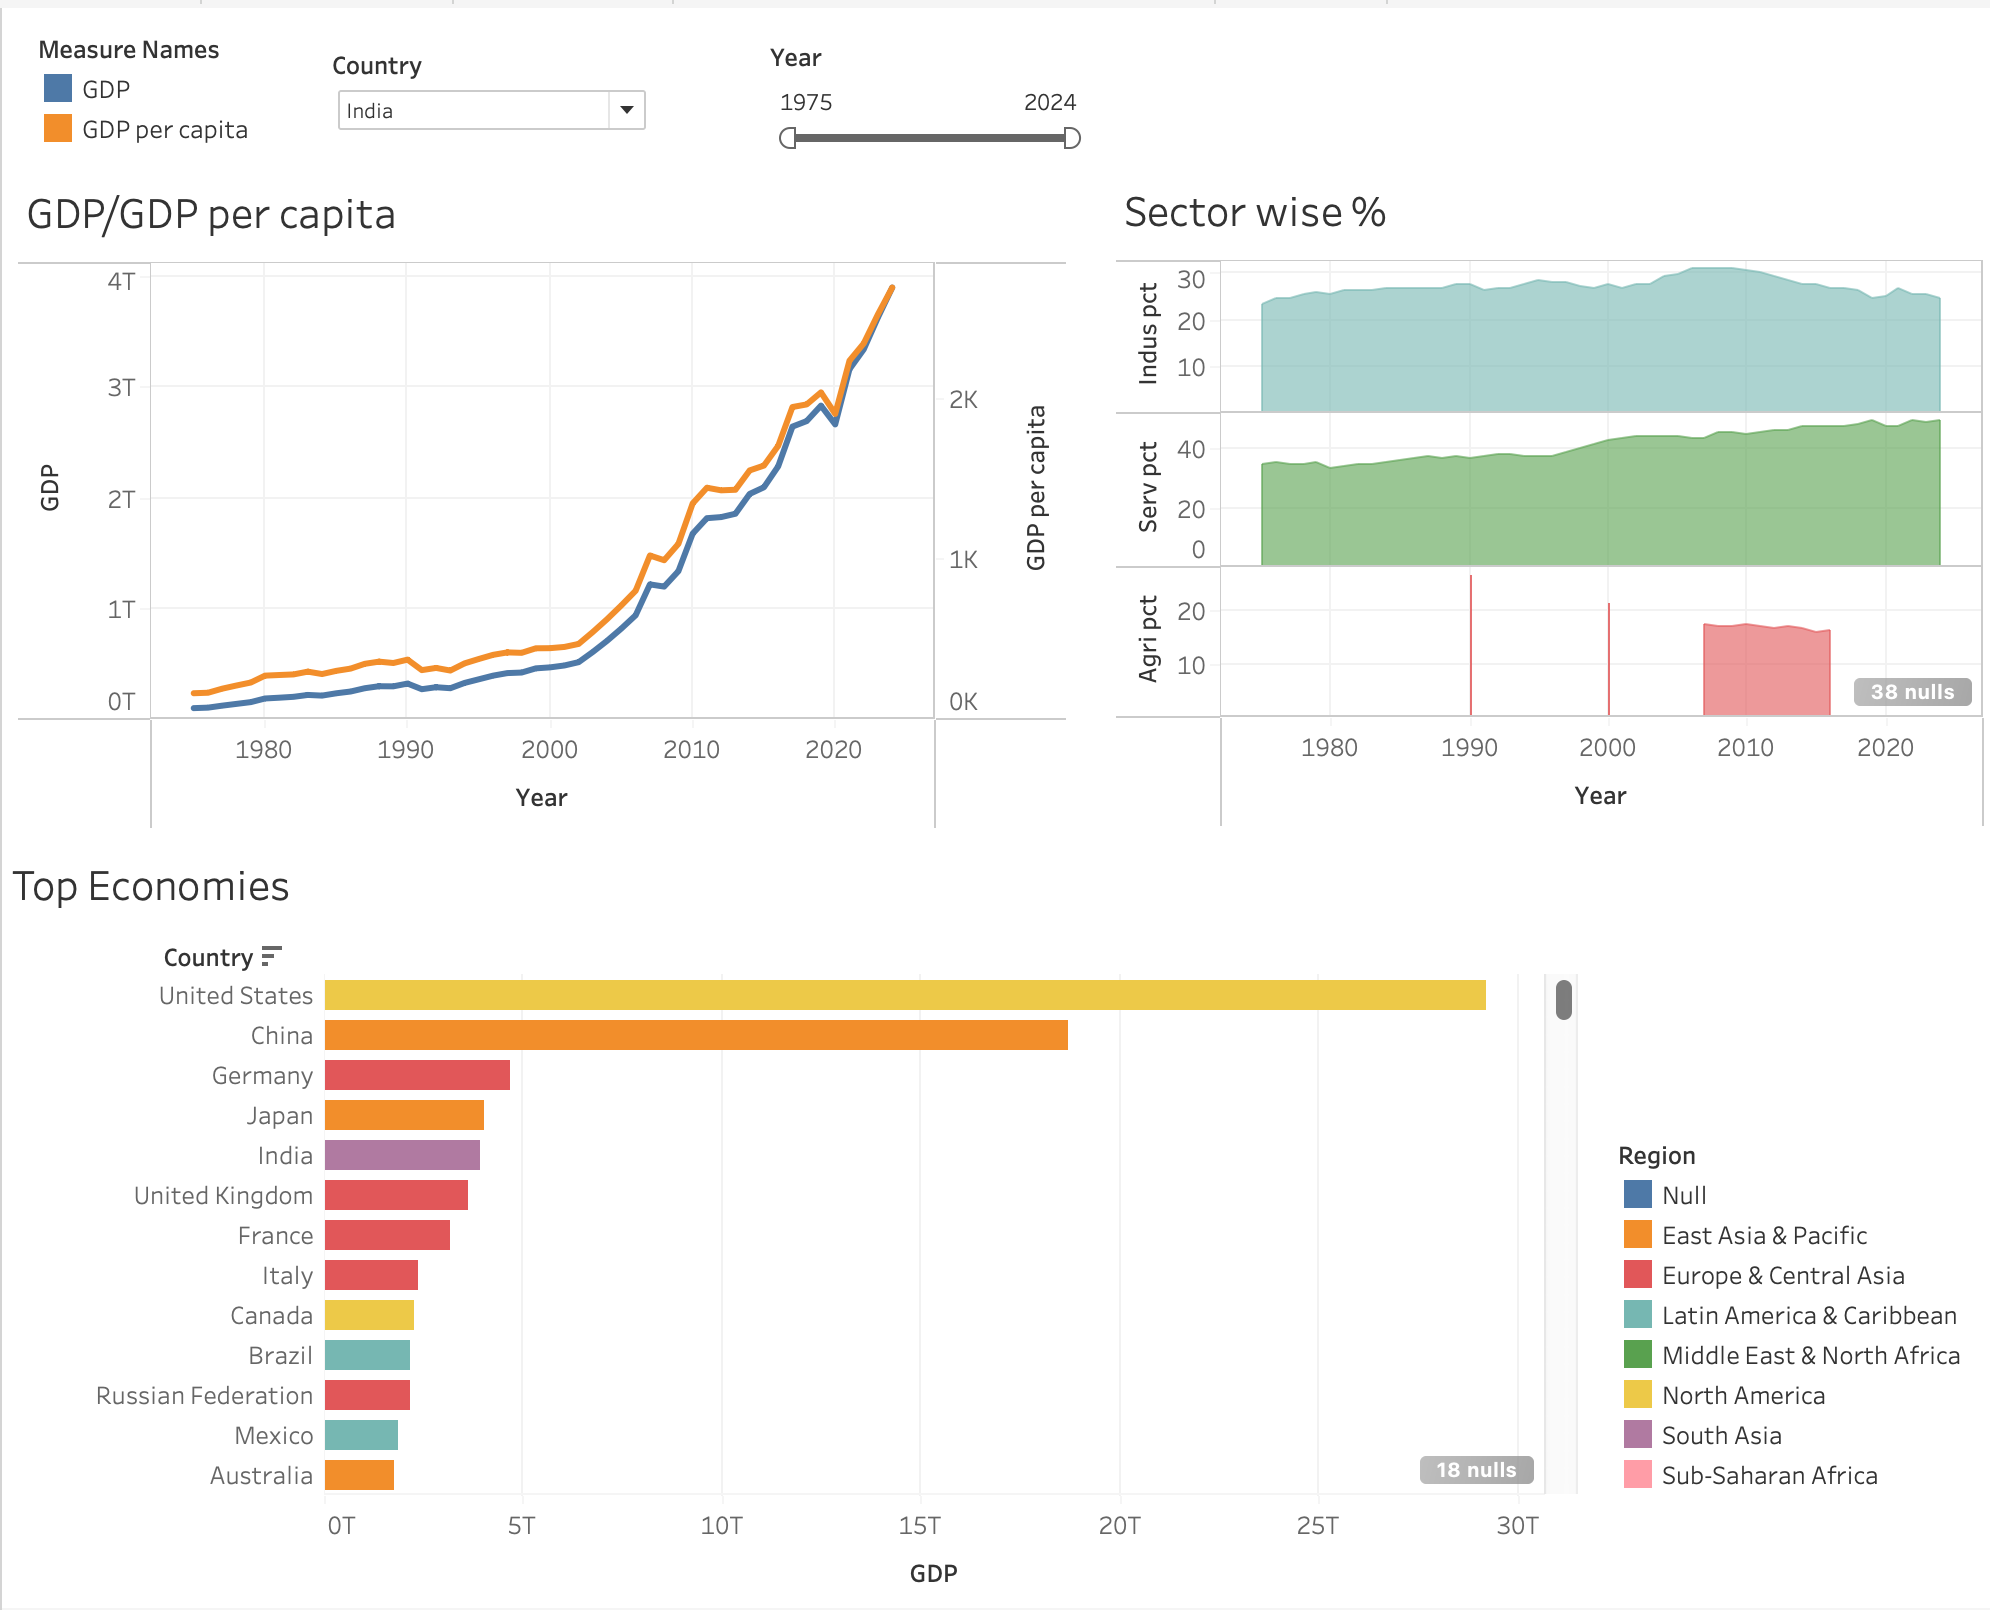

The page's visual inventory and layout, read from the dashboard file:
{"tool":"tableau","page":{"name":"Dashboard 1","canvas":[1000,800],"ordinal":0},"visuals":[{"type":"legend","title":"GDP/GDP per capita","param":"[federated.14092091ptb7ll14yyaaz081gjgp].[:Measure Names]","box":[18,12,140,58]},{"type":"filter","title":"GDP/GDP per capita","param":"[federated.14092091ptb7ll14yyaaz081gjgp].[none:Year:qk]","box":[384,16,160,61]},{"type":"filter","title":"GDP/GDP per capita","param":"[federated.14092091ptb7ll14yyaaz081gjgp].[none:Country:nk]","box":[165,20,160,44]},{"type":"worksheet","title":"Sector wise %","mark":"Area","rows":["Indus_pct","Serv_pct","Agri_pct"],"cols":["Year"],"box":[557,83,434,328]},{"type":"worksheet","title":"GDP/GDP per capita","mark":"Automatic","rows":["GDP","GDP_per_capita"],"cols":["Year"],"box":[8,84,525,327]},{"type":"worksheet","title":"Top Economies","mark":"Automatic","rows":["Country"],"cols":["GDP"],"box":[1,420,787,378]},{"type":"legend","title":"Top Economies","param":"[federated.14092091ptb7ll14yyaaz081gjgp].[none:Region:nk]","box":[808,565,186,193]}]}

Visuals, with their boxes in screenshot pixels (x1, y1, x2, y2), scaled from the page's 1000x800 canvas onto the 1990x1610 screenshot:
"GDP/GDP per capita" legend: 36, 24, 314, 141
"GDP/GDP per capita" filter: 764, 32, 1083, 155
"GDP/GDP per capita" filter: 328, 40, 647, 129
"Sector wise %" worksheet (Area marks): 1108, 167, 1972, 827
"GDP/GDP per capita" worksheet: 16, 169, 1061, 827
"Top Economies" worksheet: 2, 845, 1568, 1606
"Top Economies" legend: 1608, 1137, 1978, 1525
